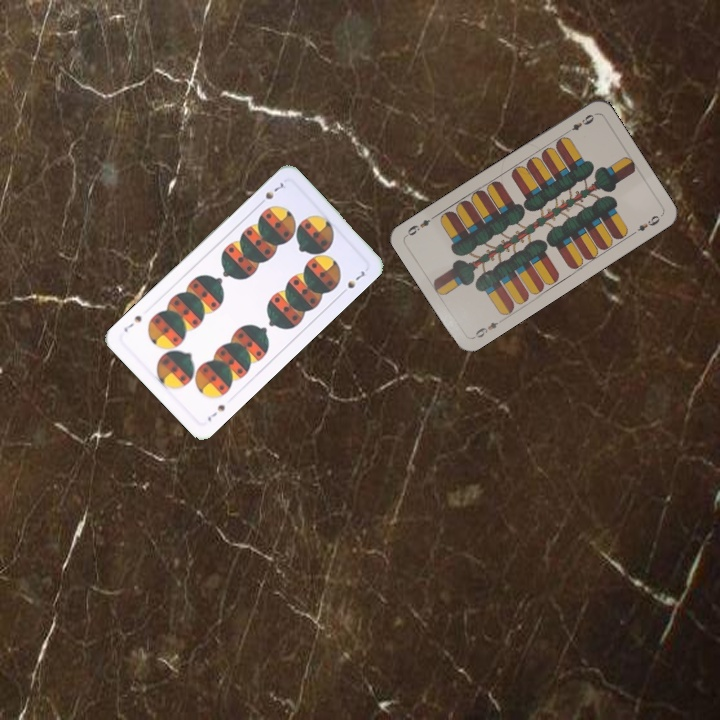E9: (561, 110, 597, 137), (469, 315, 506, 341)
S7: (254, 179, 286, 208), (203, 400, 228, 424)
